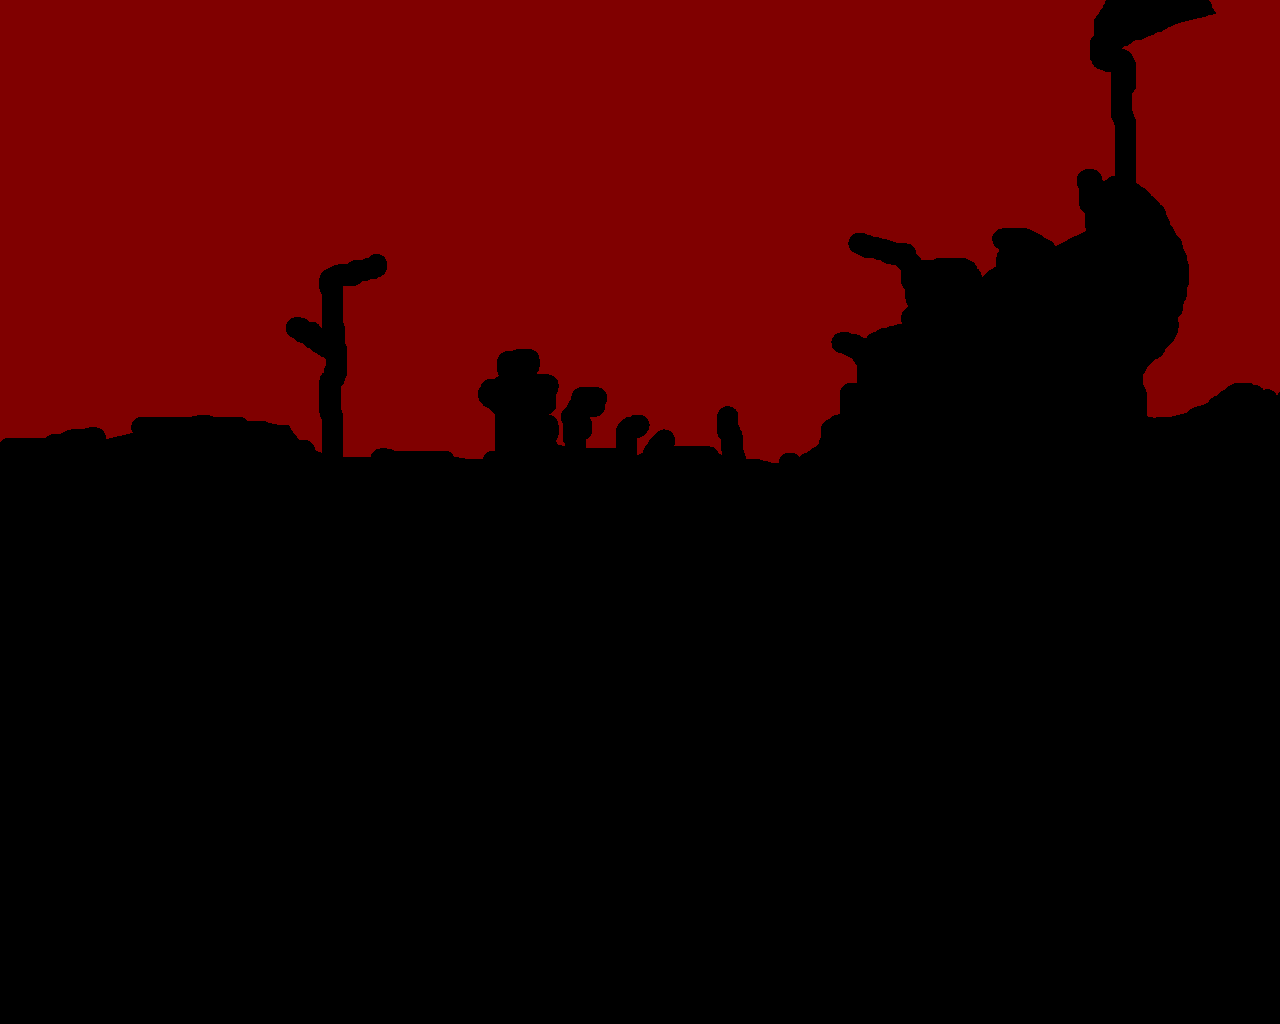Sky: (1, 1, 1279, 463)
